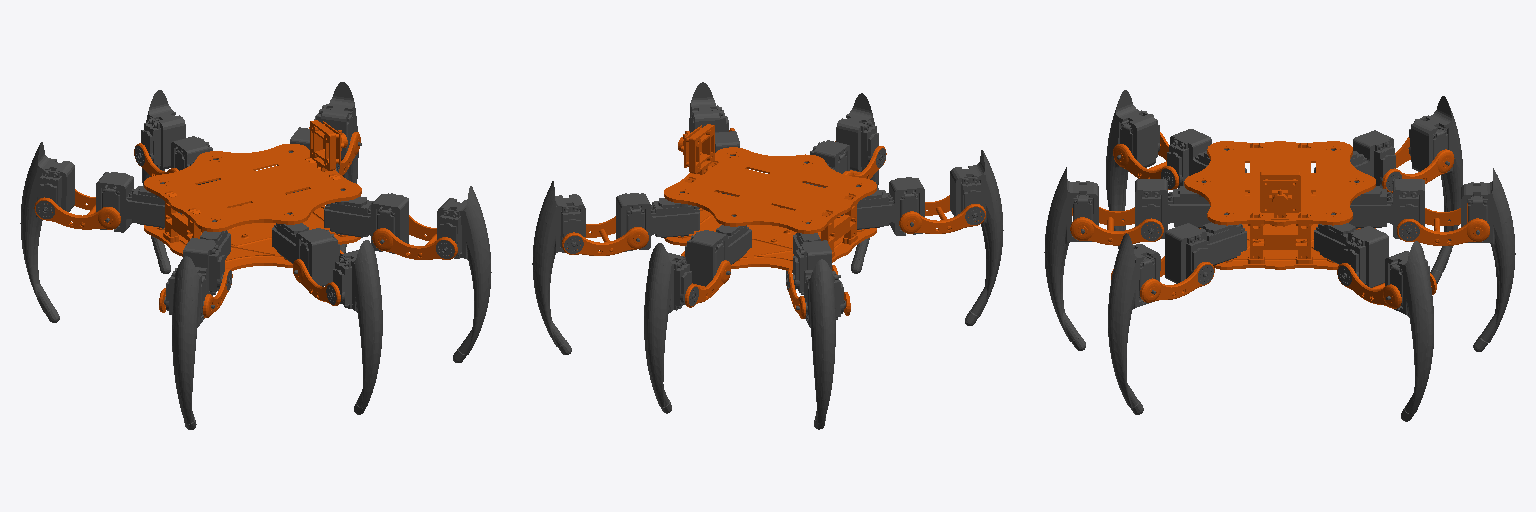
--- What the picture shows (computed from the rendered views, not written in the file) ---
The picture shows the robot from 3 angles, left to right: view 1: azimuth 30°, elevation 25°; view 2: azimuth 150°, elevation 25°; view 3: azimuth 270°, elevation 25°; orthographic projection.
Model hexapod with 32 links and 31 joints (18 revolute, 13 fixed), rooted at base_link, posed every joint at zero.
Visible links, largest first — view 1: thorax, tibia_r2, tibia_r1, tibia_l3, tibia_r3, coxa_r1, coxa_r2, tibia_l2, coxa_l3, coxa_r3, tibia_l1, femur_r1 (+4 smaller); view 2: thorax, tibia_l2, tibia_l1, tibia_r3, tibia_l3, coxa_l1, coxa_l2, tibia_r2, coxa_r3, femur_l1, femur_r3, coxa_l3 (+4 smaller); view 3: thorax, tibia_l1, tibia_r1, tibia_r2, tibia_l2, tibia_l3, coxa_r1, tibia_r3, coxa_l1, coxa_l2, coxa_r2, femur_l2 (+7 smaller).
Boxes of the visible links, x1,y1,x2,y2 form: thorax: (144,120,361,270); tibia_r2: (326,240,382,414); tibia_r1: (436,186,491,362); tibia_l3: (20,142,74,322); tibia_r3: (164,256,214,429); coxa_r1: (324,189,408,253); coxa_r2: (272,213,339,286); tibia_l2: (135,90,185,273); coxa_l3: (96,172,181,232); coxa_r3: (183,220,231,295); tibia_l1: (314,82,361,252); femur_r1: (372,215,457,259); thorax: (664,124,876,272); tibia_l2: (644,243,698,413); tibia_l1: (532,181,585,354); tibia_r3: (950,150,1003,325); tibia_l3: (796,259,845,429); coxa_l1: (616,192,699,251); coxa_l2: (685,215,751,286); tibia_r2: (836,93,885,273); coxa_r3: (841,177,924,235); femur_l1: (562,216,648,255); femur_r3: (899,195,985,233); coxa_l3: (786,222,840,294); thorax: (1184,141,1375,269); tibia_l1: (1385,241,1433,421); tibia_r1: (1108,233,1160,414); tibia_r2: (1044,167,1098,350); tibia_l2: (1461,168,1515,351); tibia_l3: (1408,96,1462,283); coxa_r1: (1165,213,1246,284); tibia_r3: (1106,90,1159,248); coxa_l1: (1314,213,1388,287); coxa_l2: (1349,179,1424,240); coxa_r2: (1135,179,1210,240); femur_l2: (1397,203,1489,245).
Size in the robot's own frame: 0.4002 by 0.4806 by 0.235 metres.
19 mesh visuals loaded from 7 distinct referenced files (7 binary STL).

URDF robot description (hexapod):
<?xml version="1.0" encoding="utf-8"?>
<!-- This URDF was automatically created by SolidWorks to URDF Exporter! Originally created by Stephen Brawner ([email redacted]) 
     Commit Version: 1.5.1-0-g916b5db  Build Version: 1.5.7152.31018
     For more information, please see http://wiki.ros.org/sw_urdf_exporter -->
<robot name="hexapod">
  <link name="base_link" />
  <link name="thorax">
    <inertial>
      <origin
        xyz="0.00706348303608598 6.20325486476734E-07 0.00603744130644426"
        rpy="0 0 0" />
      <mass
        value="0.186464930329123" />
      <inertia
        ixx="0.000348426912913734"
        ixy="4.75798074144715E-08"
        ixz="1.53362982798971E-07"
        iyy="0.00047563290900193"
        iyz="-7.10771446997733E-10"
        izz="0.000812087243482573" />
    </inertial>
    <visual>
      <origin
        xyz="0 0 0"
        rpy="0 0 0" />
      <geometry>
        <mesh
          filename="package://hexapod/meshes/thorax.STL" />
      </geometry>
      <material
        name="">
        <color
          rgba="0.843137255 0.37254902 0.062745098 1" />
      </material>
    </visual>
    <collision>
      <origin
        xyz="0 0 0"
        rpy="0 0 0" />
      <geometry>
        <mesh
          filename="package://hexapod/meshes/thorax.STL" />
      </geometry>
    </collision>
  </link>
  <joint
    name="base_joint"
    type="fixed">
    <origin
      xyz="0 0 0"
      rpy="0 0 0" />
    <parent
      link="base_link" />
    <child
      link="thorax" />
    <axis
      xyz="0 0 1" />
    <limit
      lower="-1.57"
      upper="1.57"
      effort="0"
      velocity="0" />
  </joint>
  <link name="leg_center_l1" />
  <joint
    name="leg_center_joint_l1"
    type="fixed">
    <origin
      xyz="0.077819 0.05449 -0.0017"
      rpy="0 0 0" />
    <parent
      link="thorax" />
    <child
      link="leg_center_l1" />
    <axis
      xyz="0 0 -1" />
    <limit
      lower="-1.57"
      upper="1.57"
      effort="0"
      velocity="0" />
  </joint>
  <link
    name="coxa_l1">
    <inertial>
      <origin
        xyz="0.034834 -0.0025292 -0.0010002"
        rpy="0 0 0" />
      <mass
        value="0.10336" />
      <inertia
        ixx="1.9105E-05"
        ixy="-5.2376E-13"
        ixz="-2.1505E-07"
        iyy="4.5061E-05"
        iyz="-4.146E-08"
        izz="3.529E-05" />
    </inertial>
    <visual>
      <origin
        xyz="0 0 0"
        rpy="0 0 0" />
      <geometry>
        <mesh
          filename="package://hexapod/meshes/coxa_l.STL" />
      </geometry>
      <material
        name="">
        <color
          rgba="0.352941176 0.352941176 0.352941176 1" />
      </material>
    </visual>
    <collision>
      <origin
        xyz="0 0 0"
        rpy="0 0 0" />
      <geometry>
        <mesh
          filename="package://hexapod/meshes/coxa_l.STL" />
      </geometry>
    </collision>
  </link>
  <joint
    name="coxa_joint_l1"
    type="revolute">
    <origin
      xyz="0 0 0"
      rpy="0 0 0.73013" />
    <parent
      link="leg_center_l1" />
    <child
      link="coxa_l1" />
    <axis
      xyz="0 0 -1" />
    <limit
      lower="-1.57"
      upper="1.57"
      effort="0"
      velocity="0" />
  </joint>
  <link
    name="femur_l1">
    <inertial>
      <origin
        xyz="-0.0043462 0.034442 -0.0058187"
        rpy="0 0 0" />
      <mass
        value="0.016654" />
      <inertia
        ixx="1.0989E-05"
        ixy="-2.5179E-10"
        ixz="2.3265E-12"
        iyy="1.0107E-06"
        iyz="9.216E-08"
        izz="1.1493E-05" />
    </inertial>
    <visual>
      <origin
        xyz="0 0 0"
        rpy="0 0 0" />
      <geometry>
        <mesh
          filename="package://hexapod/meshes/femur_l.STL" />
      </geometry>
      <material
        name="">
        <color
          rgba="0.843137255 0.37254902 0.062745098 1" />
      </material>
    </visual>
    <collision>
      <origin
        xyz="0 0 0"
        rpy="0 0 0" />
      <geometry>
        <mesh
          filename="package://hexapod/meshes/femur_l.STL" />
      </geometry>
    </collision>
  </link>
  <joint
    name="femur_joint_l1"
    type="revolute">
    <origin
      xyz="0.053487 -0.00025 -0.01255"
      rpy="-1.5708 -1.5708 0" />
    <parent
      link="coxa_l1" />
    <child
      link="femur_l1" />
    <axis
      xyz="0 0 1" />
    <limit
      lower="-1.57"
      upper="1.57"
      effort="0"
      velocity="0" />
  </joint>
  <link
    name="tibia_l1">
    <inertial>
      <origin
        xyz="0.010899 0.012132 0.0037413"
        rpy="0 0 0" />
      <mass
        value="0.12021" />
      <inertia
        ixx="2.2982E-05"
        ixy="-1.2411E-05"
        ixz="4.1572E-08"
        iyy="0.00017602"
        iyz="1.3806E-10"
        izz="0.00018979" />
    </inertial>
    <visual>
      <origin
        xyz="0 0 0"
        rpy="0 0 0" />
      <geometry>
        <mesh
          filename="package://hexapod/meshes/tibia_l.STL" />
      </geometry>
      <material
        name="">
        <color
          rgba="0.352941176 0.352941176 0.352941176 1" />
      </material>
    </visual>
    <collision>
      <origin
        xyz="0 0 0"
        rpy="0 0 0" />
      <geometry>
        <mesh
          filename="package://hexapod/meshes/tibia_l.STL" />
      </geometry>
    </collision>
  </link>
  <joint
    name="tibia_joint_l1"
    type="revolute">
    <origin
      xyz="0 0.07 -0.0059687"
      rpy="3.1416 0 3.132" />
    <parent
      link="femur_l1" />
    <child
      link="tibia_l1" />
    <axis
      xyz="0 0 1" />
    <limit
      lower="-1.57"
      upper="1.57"
      effort="0"
      velocity="0" />
  </joint>
  <link name="tibia_foot_l1" />
  <joint
    name="tibia_foot_joint_l1"
    type="fixed">
    <origin
      xyz="0.1444 -0.0031016 0.0058"
      rpy="0 0 3.1416" />
    <parent
      link="tibia_l1" />
    <child
      link="tibia_foot_l1" />
    <axis
      xyz="0.99995 -0.0095683 0" />
  </joint>

  <link name="leg_center_l2" />
  <joint
    name="leg_center_joint_l2"
    type="fixed">
    <origin
      xyz="0 0.078 -0.0017"
      rpy="0 0 0" />
    <parent
      link="thorax" />
    <child
      link="leg_center_l2" />
    <axis
      xyz="0 0 -1" />
    <limit
      lower="-1.57"
      upper="1.57"
      effort="0"
      velocity="0" />
  </joint>
  <link
    name="coxa_l2">
    <inertial>
      <origin
        xyz="0.0348344911381483 -0.00252923783776128 -0.00100016547523733"
        rpy="0 0 0" />
      <mass
        value="0.103363776893952" />
      <inertia
        ixx="1.91048783285097E-05"
        ixy="-5.55687162751777E-13"
        ixz="-2.15046985299267E-07"
        iyy="4.50607444130239E-05"
        iyz="-4.14596116123115E-08"
        izz="3.52896644398831E-05" />
    </inertial>
    <visual>
      <origin
        xyz="0 0 0"
        rpy="0 0 0" />
      <geometry>
        <mesh
          filename="package://hexapod/meshes/coxa_l.STL" />
      </geometry>
      <material
        name="">
        <color
          rgba="0.352941176 0.352941176 0.352941176 1" />
      </material>
    </visual>
    <collision>
      <origin
        xyz="0 0 0"
        rpy="0 0 0" />
      <geometry>
        <mesh
          filename="package://hexapod/meshes/coxa_l.STL" />
      </geometry>
    </collision>
  </link>
  <joint
    name="coxa_joint_l2"
    type="revolute">
    <origin
      xyz="0 0 0"
      rpy="0 0 1.5766" />
    <parent
      link="leg_center_l2" />
    <child
      link="coxa_l2" />
    <axis
      xyz="0 0 -1" />
    <limit
      lower="-1.57"
      upper="1.57"
      effort="0"
      velocity="0" />
  </joint>
  <link
    name="femur_l2">
    <inertial>
      <origin
        xyz="-0.0043461847377985 0.0344416311101856 -0.00581874998882807"
        rpy="0 0 0" />
      <mass
        value="0.0166543169132961" />
      <inertia
        ixx="1.09887876437987E-05"
        ixy="-2.51790271651963E-10"
        ixz="2.32651955705625E-12"
        iyy="1.01070134376918E-06"
        iyz="9.21601717207136E-08"
        izz="1.14929296906149E-05" />
    </inertial>
    <visual>
      <origin
        xyz="0 0 0"
        rpy="0 0 0" />
      <geometry>
        <mesh
          filename="package://hexapod/meshes/femur_l.STL" />
      </geometry>
      <material
        name="">
        <color
          rgba="0.843137255 0.37254902 0.062745098 1" />
      </material>
    </visual>
    <collision>
      <origin
        xyz="0 0 0"
        rpy="0 0 0" />
      <geometry>
        <mesh
          filename="package://hexapod/meshes/femur_l.STL" />
      </geometry>
    </collision>
  </link>
  <joint
    name="femur_joint_l2"
    type="revolute">
    <origin
      xyz="0.053487 -0.00025 -0.01255"
      rpy="-1.5708 -1.5708 0" />
    <parent
      link="coxa_l2" />
    <child
      link="femur_l2" />
    <axis
      xyz="0 0 1" />
    <limit
      lower="-1.57"
      upper="1.57"
      effort="0"
      velocity="0" />
  </joint>
  <link
    name="tibia_l2">
    <inertial>
      <origin
        xyz="0.0108992142359855 0.012131645184249 0.00374137321632532"
        rpy="0 0 0" />
      <mass
        value="0.12021416807033" />
      <inertia
        ixx="2.29812069729442E-05"
        ixy="-1.24106060337982E-05"
        ixz="4.15464620797401E-08"
        iyy="0.00017602202790064"
        iyz="2.18365087267805E-10"
        izz="0.000189786291606238" />
    </inertial>
    <visual>
      <origin
        xyz="0 0 0"
        rpy="0 0 0" />
      <geometry>
        <mesh
          filename="package://hexapod/meshes/tibia_l.STL" />
      </geometry>
      <material
        name="">
        <color
          rgba="0.352941176 0.352941176 0.352941176 1" />
      </material>
    </visual>
    <collision>
      <origin
        xyz="0 0 0"
        rpy="0 0 0" />
      <geometry>
        <mesh
          filename="package://hexapod/meshes/tibia_l.STL" />
      </geometry>
    </collision>
  </link>
  <joint
    name="tibia_joint_l2"
    type="revolute">
    <origin
      xyz="0 0.07 -0.0059687"
      rpy="3.1416 0 3.132" />
    <parent
      link="femur_l2" />
    <child
      link="tibia_l2" />
    <axis
      xyz="0 0 1" />
    <limit
      lower="-1.57"
      upper="1.57"
      effort="0"
      velocity="0" />
  </joint>
  
  <link name="tibia_foot_l2" />
  <joint
    name="tibia_foot_joint_l2"
    type="fixed">
    <origin
      xyz="0.1444 -0.0031016 0.0058"
      rpy="0 0 -3.1416" />
    <parent
      link="tibia_l2" />
    <child
      link="tibia_foot_l2" />
    <axis
      xyz="0.99995 -0.0095683 0" />
  </joint>
  
  <link name="leg_center_l3" />
  <joint
    name="leg_center_joint_l3"
    type="fixed">
    <origin
      xyz="-0.077819 0.05449 -0.0017"
      rpy="0 0 0" />
    <parent
      link="thorax" />
    <child
      link="leg_center_l3" />
    <axis
      xyz="0 0 -1" />
    <limit
      lower="-1.57"
      upper="1.57"
      effort="0"
      velocity="0" />
  </joint>
  <link
    name="coxa_l3">
    <inertial>
      <origin
        xyz="0.0348344911373695 -0.00252923874254912 -0.00100016534520471"
        rpy="0 0 0" />
      <mass
        value="0.103363766488573" />
      <inertia
        ixx="1.91048770090535E-05"
        ixy="-6.25550734094643E-13"
        ixz="-2.15046976421127E-07"
        iyy="4.50607393758289E-05"
        iyz="-4.14597029674846E-08"
        izz="3.52896594422946E-05" />
    </inertial>
    <visual>
      <origin
        xyz="0 0 0"
        rpy="0 0 0" />
      <geometry>
        <mesh
          filename="package://hexapod/meshes/coxa_l.STL" />
      </geometry>
      <material
        name="">
        <color
          rgba="0.352941176 0.352941176 0.352941176 1" />
      </material>
    </visual>
    <collision>
      <origin
        xyz="0 0 0"
        rpy="0 0 0" />
      <geometry>
        <mesh
          filename="package://hexapod/meshes/coxa_l.STL" />
      </geometry>
    </collision>
  </link>
  <joint
    name="coxa_joint_l3"
    type="revolute">
    <origin
      xyz="0 0 0"
      rpy="0 0 2.288" />
    <parent
      link="leg_center_l3" />
    <child
      link="coxa_l3" />
    <axis
      xyz="0 0 -1" />
    <limit
      lower="-1.57"
      upper="1.57"
      effort="0"
      velocity="0" />
  </joint>
  <link
    name="femur_l3">
    <inertial>
      <origin
        xyz="-0.0043461850507205 0.0344416273048208 -0.00581874872468231"
        rpy="0 0 0" />
      <mass
        value="0.0166543143060304" />
      <inertia
        ixx="1.09887835413518E-05"
        ixy="-2.51700314249262E-10"
        ixz="2.30180367469778E-12"
        iyy="1.0107001676025E-06"
        iyz="9.21597603799202E-08"
        izz="1.14929241444439E-05" />
    </inertial>
    <visual>
      <origin
        xyz="0 0 0"
        rpy="0 0 0" />
      <geometry>
        <mesh
          filename="package://hexapod/meshes/femur_l.STL" />
      </geometry>
      <material
        name="">
        <color
          rgba="0.843137255 0.37254902 0.062745098 1" />
      </material>
    </visual>
    <collision>
      <origin
        xyz="0 0 0"
        rpy="0 0 0" />
      <geometry>
        <mesh
          filename="package://hexapod/meshes/femur_l.STL" />
      </geometry>
    </collision>
  </link>
  <joint
    name="femur_joint_l3"
    type="revolute">
    <origin
      xyz="0.053487 -0.00025 -0.01255"
      rpy="-1.5708 -1.5708 0" />
    <parent
      link="coxa_l3" />
    <child
      link="femur_l3" />
    <axis
      xyz="0 0 1" />
    <limit
      lower="-1.57"
      upper="1.57"
      effort="0"
      velocity="0" />
  </joint>
  <link
    name="tibia_l3">
    <inertial>
      <origin
        xyz="0.0108992410697003 0.0121320882126049 0.00374133116233456"
        rpy="0 0 0" />
      <mass
        value="0.120214011881358" />
      <inertia
        ixx="2.29816761087102E-05"
        ixy="-1.24111837736268E-05"
        ixz="4.15681097308728E-08"
        iyy="0.000176023115978277"
        iyz="1.37085554409446E-10"
        izz="0.000189787821616293" />
    </inertial>
    <visual>
      <origin
        xyz="0 0 0"
        rpy="0 0 0" />
      <geometry>
        <mesh
          filename="package://hexapod/meshes/tibia_l.STL" />
      </geometry>
      <material
        name="">
        <color
          rgba="0.352941176 0.352941176 0.352941176 1" />
      </material>
    </visual>
    <collision>
      <origin
        xyz="0 0 0"
        rpy="0 0 0" />
      <geometry>
        <mesh
          filename="package://hexapod/meshes/tibia_l.STL" />
      </geometry>
    </collision>
  </link>
  <joint
    name="tibia_joint_l3"
    type="revolute">
    <origin
      xyz="0 0.07 -0.0059688"
      rpy="3.1416 0 3.132" />
    <parent
      link="femur_l3" />
    <child
      link="tibia_l3" />
    <axis
      xyz="0 0 1" />
    <limit
      lower="-1.57"
      upper="1.57"
      effort="0"
      velocity="0" />
  </joint>
  
  <link name="tibia_foot_l3" />
  <joint
    name="tibia_foot_joint_l3"
    type="fixed">
    <origin
      xyz="0.144395915274677 -0.00310162843896286 0.00580000000000006"
      rpy="0 0 3.14159265358979" />
    <parent
      link="tibia_l3" />
    <child
      link="tibia_foot_l3" />
    <axis
      xyz="0.999954222827223 -0.00956829399654586 0" />
  </joint>
  
  <link name="leg_center_r1" />
  <joint
    name="leg_center_joint_r1"
    type="fixed">
    <origin
      xyz="0.077819 -0.05449 -0.0017"
      rpy="0 0 0" />
    <parent
      link="thorax" />
    <child
      link="leg_center_r1" />
    <axis
      xyz="0 0 -1" />
    <limit
      lower="-1.57"
      upper="1.57"
      effort="0"
      velocity="0" />
  </joint>
  <link
    name="coxa_r1">
    <inertial>
      <origin
        xyz="0.0348344909739739 0.00217853268244035 -0.00100016535985496"
        rpy="0 0 0" />
      <mass
        value="0.103363766514852" />
      <inertia
        ixx="1.91048769186334E-05"
        ixy="-4.48253924396951E-13"
        ixz="-2.15046742290026E-07"
        iyy="4.5060739382653E-05"
        iyz="4.14608046103754E-08"
        izz="3.52896595571694E-05" />
    </inertial>
    <visual>
      <origin
        xyz="0 0 0"
        rpy="0 0 0" />
      <geometry>
        <mesh
          filename="package://hexapod/meshes/coxa_r.STL" />
      </geometry>
      <material
        name="">
        <color
          rgba="0.352941176 0.352941176 0.352941176 1" />
      </material>
    </visual>
    <collision>
      <origin
        xyz="0 0 0"
        rpy="0 0 0" />
      <geometry>
        <mesh
          filename="package://hexapod/meshes/coxa_r.STL" />
      </geometry>
    </collision>
  </link>
  <joint
    name="coxa_joint_r1"
    type="revolute">
    <origin
      xyz="0 0 0"
      rpy="0 0 -0.89286" />
    <parent
      link="leg_center_r1" />
    <child
      link="coxa_r1" />
    <axis
      xyz="0 0 -1" />
    <limit
      lower="-1.57"
      upper="1.57"
      effort="0"
      velocity="0" />
  </joint>
  <link
    name="femur_r1">
    <inertial>
      <origin
        xyz="-0.00362186654971272 0.0356362982329174 0.00581875542791389"
        rpy="0 0 0" />
      <mass
        value="0.0167057128879861" />
      <inertia
        ixx="1.10325216372562E-05"
        ixy="-2.00367430072518E-07"
        ixz="-1.93334135332625E-09"
        iyy="1.01761005526357E-06"
        iyz="-9.66778963830072E-08"
        izz="1.15426655477571E-05" />
    </inertial>
    <visual>
      <origin
        xyz="0 0 0"
        rpy="0 0 0" />
      <geometry>
        <mesh
          filename="package://hexapod/meshes/femur_r.STL" />
      </geometry>
      <material
        name="">
        <color
          rgba="0.843137255 0.37254902 0.062745098 1" />
      </material>
    </visual>
    <collision>
      <origin
        xyz="0 0 0"
        rpy="0 0 0" />
      <geometry>
        <mesh
          filename="package://hexapod/meshes/femur_r.STL" />
      </geometry>
    </collision>
  </link>
  <joint
    name="femur_joint_r1"
    type="revolute">
    <origin
      xyz="0.053487 -0.00025 -0.01255"
      rpy="-1.5708 -1.5708 0" />
    <parent
      link="coxa_r1" />
    <child
      link="femur_r1" />
    <axis
      xyz="0 0 -1" />
    <limit
      lower="-1.57"
      upper="1.57"
      effort="0"
      velocity="0" />
  </joint>
  <link
    name="tibia_r1">
    <inertial>
      <origin
        xyz="0.0108992485821746 0.0125037219591843 -0.00374166830282576"
        rpy="0 0 0" />
      <mass
        value="0.120214017887961" />
      <inertia
        ixx="2.29816742236997E-05"
        ixy="-1.24111932632468E-05"
        ixz="-4.13635941016623E-08"
        iyy="0.000176023190447477"
        iyz="1.33753642844033E-10"
        izz="0.000189787887885197" />
    </inertial>
    <visual>
      <origin
        xyz="0 0 0"
        rpy="0 0 0" />
      <geometry>
        <mesh
          filename="package://hexapod/meshes/tibia_r.STL" />
      </geometry>
      <material
        name="">
        <color
          rgba="0.352941176 0.352941176 0.352941176 1" />
      </material>
    </visual>
    <collision>
      <origin
        xyz="0 0 0"
        rpy="0 0 0" />
      <geometry>
        <mesh
          filename="package://hexapod/meshes/tibia_r.STL" />
      </geometry>
    </collision>
  </link>
  <joint
    name="tibia_joint_r1"
    type="revolute">
    <origin
      xyz="0.0013997 0.069986 0.0059687"
      rpy="3.1416 0 3.1297" />
    <parent
      link="femur_r1" />
    <child
      link="tibia_r1" />
    <axis
      xyz="0 0 -1" />
    <limit
      lower="-1.57"
      upper="1.57"
      effort="0"
      velocity="0" />
  </joint>
  
  <link name="tibia_foot_r1" />
  <joint
    name="tibia_foot_joint_r1"
    type="fixed">
    <origin
      xyz="0.144395915274678 -0.00260162843895737 -0.00580000000000004"
      rpy="0 0 -3.14159265358979" />
    <parent
      link="tibia_r1" />
    <child
      link="tibia_foot_r1" />
    <axis
      xyz="0.999929737401117 -0.0118541242162215 0" />
  </joint>
  
  <link name="leg_center_r2" />
  <joint
    name="leg_center_joint_r2"
    type="fixed">
    <origin
      xyz="0 -0.078 -0.0017"
      rpy="0 0 0" />
    <parent
      link="thorax" />
    <child
      link="leg_center_r2" />
    <axis
      xyz="0 0 -1" />
    <limit
      lower="-1.57"
      upper="1.57"
      effort="0"
      velocity="0" />
  </joint>
  <link
    name="coxa_r2">
    <inertial>
      <origin
        xyz="0.0348344911173376 0.00217853192417436 -0.00100016537397829"
        rpy="0 0 0" />
      <mass
        value="0.103363778053454" />
      <inertia
        ixx="1.91048786955346E-05"
        ixy="-4.73582125705158E-13"
        ixz="-2.1504686687467E-07"
        iyy="4.50607448453734E-05"
        iyz="4.14607240908262E-08"
        izz="3.52896647303261E-05" />
    </inertial>
    <visual>
      <origin
        xyz="0 0 0"
        rpy="0 0 0" />
      <geometry>
        <mesh
          filename="package://hexapod/meshes/coxa_r.STL" />
      </geometry>
      <material
        name="">
        <color
          rgba="0.352941176 0.352941176 0.352941176 1" />
      </material>
    </visual>
    <collision>
      <origin
        xyz="0 0 0"
        rpy="0 0 0" />
      <geometry>
        <mesh
          filename="package://hexapod/meshes/coxa_r.STL" />
      </geometry>
    </collision>
  </link>
  <joint
    name="coxa_joint_r2"
    type="revolute">
    <origin
      xyz="0 0 0"
      rpy="0 0 -1.5708" />
    <parent
      link="leg_center_r2" />
    <child
      link="coxa_r2" />
    <axis
      xyz="0 0 -1" />
    <limit
      lower="-1.57"
      upper="1.57"
      effort="0"
      velocity="0" />
  </joint>
  <link
    name="femur_r2">
    <inertial>
      <origin
        xyz="-0.00362186426289651 0.0356362963042353 0.00581874969222816"
        rpy="0 0 0" />
      <mass
        value="0.0167057274084573" />
      <inertia
        ixx="1.10325316501959E-05"
        ixy="-2.0036820117646E-07"
        ixz="-1.93340134884321E-09"
        iyy="1.01761454004157E-06"
        iyz="-9.66784667800849E-08"
        izz="1.15426806155419E-05" />
    </inertial>
    <visual>
      <origin
        xyz="0 0 0"
        rpy="0 0 0" />
      <geometry>
        <mesh
          filename="package://hexapod/meshes/femur_r.STL" />
      </geometry>
      <material
        name="">
        <color
          rgba="0.843137255 0.37254902 0.062745098 1" />
      </material>
    </visual>
    <collision>
      <origin
        xyz="0 0 0"
        rpy="0 0 0" />
      <geometry>
        <mesh
          filename="package://hexapod/meshes/femur_r.STL" />
      </geometry>
    </collision>
  </link>
  <joint
    name="femur_joint_r2"
    type="revolute">
    <origin
      xyz="0.053487 -0.00025 -0.01255"
      rpy="-1.5708 -1.5708 0" />
    <parent
      link="coxa_r2" />
    <child
      link="femur_r2" />
    <axis
      xyz="0 0 -1" />
    <limit
      lower="-1.57"
      upper="1.57"
      effort="0"
      velocity="0" />
  </joint>
  <link
    name="tibia_r2">
    <inertial>
      <origin
        xyz="0.0108992206549124 0.0125032775464929 -0.00374163760383288"
        rpy="0 0 0" />
      <mass
        value="0.120214224900765" />
      <inertia
        ixx="2.29812081418684E-05"
        ixy="-1.24105923741768E-05"
        ixz="-4.1365031385574E-08"
        iyy="0.000176022002118481"
        iyz="2.21039713672257E-10"
        izz="0.000189786271631109" />
    </inertial>
    <visual>
      <origin
        xyz="0 0 0"
        rpy="0 0 0" />
      <geometry>
        <mesh
          filename="package://hexapod/meshes/tibia_r.STL" />
      </geometry>
      <material
        name="">
        <color
          rgba="0.352941176 0.352941176 0.352941176 1" />
      </material>
    </visual>
    <collision>
      <origin
        xyz="0 0 0"
        rpy="0 0 0" />
      <geometry>
        <mesh
          filename="package://hexapod/meshes/tibia_r.STL" />
      </geometry>
    </collision>
  </link>
  <joint
    name="tibia_joint_r2"
    type="revolute">
    <origin
      xyz="0.0013997 0.069986 0.0059687"
      rpy="3.1416 0 3.1297" />
    <parent
      link="femur_r2" />
    <child
      link="tibia_r2" />
    <axis
      xyz="0 0 -1" />
    <limit
      lower="-1.57"
      upper="1.57"
      effort="0"
      velocity="0" />
  </joint>
  
  <link name="tibia_foot_r2" />
  <joint
    name="tibia_foot_joint_r2"
    type="fixed">
    <origin
      xyz="0.1444 -0.0026016 -0.0058"
      rpy="0 0 -3.1416" />
    <parent
      link="tibia_r2" />
    <child
      link="tibia_foot_r2" />
    <axis
      xyz="0.99993 -0.011854 0" />
  </joint>
  
  <link name="leg_center_r3" />
  <joint
    name="leg_center_joint_r3"
    type="fixed">
    <origin
      xyz="-0.077819 -0.05449 -0.0017"
      rpy="0 0 0" />
    <parent
      link="thorax" />
    <child
      link="leg_center_r3" />
    <axis
      xyz="0 0 -1" />
    <limit
      lower="-1.57"
      upper="1.57"
      effort="0"
      velocity="0" />
  </joint>
  <link
    name="coxa_r3">
    <inertial>
      <origin
        xyz="0.034834490871516 0.00217853284822213 -0.00100016520790498"
        rpy="0 0 0" />
      <mass
        value="0.103363765454807" />
      <inertia
        ixx="1.91048766321999E-05"
        ixy="-5.32153376308812E-13"
        ixz="-2.15046886402031E-07"
        iyy="4.50607389716587E-05"
        iyz="4.14608852314397E-08"
        izz="3.52896593628051E-05" />
    </inertial>
    <visual>
      <origin
        xyz="0 0 0"
        rpy="0 0 0" />
      <geometry>
        <mesh
          filename="package://hexapod/meshes/coxa_r.STL" />
      </geometry>
      <material
        name="">
        <color
          rgba="0.352941176 0.352941176 0.352941176 1" />
      </material>
    </visual>
    <collision>
      <origin
        xyz="0 0 0"
        rpy="0 0 0" />
      <geometry>
        <mesh
          filename="package://hexapod/meshes/coxa_r.STL" />
      </geometry>
    </collision>
  </link>
  <joint
    name="coxa_joint_r3"
    type="revolute">
    <origin
      xyz="0 0 0"
      rpy="0 0 -2.3851" />
    <parent
      link="leg_center_r3" />
    <child
      link="coxa_r3" />
    <axis
      xyz="0 0 -1" />
    <limit
      lower="-1.57"
      upper="1.57"
      effort="0"
      velocity="0" />
  </joint>
  <link
    name="femur_r3">
    <inertial>
      <origin
        xyz="-0.00362186679641074 0.0356362982569797 0.00581875544117352"
        rpy="0 0 0" />
      <mass
        value="0.0167057123479051" />
      <inertia
        ixx="1.103252111879E-05"
        ixy="-2.00367418643181E-07"
        ixz="-1.93334161626663E-09"
        iyy="1.0176099977436E-06"
        iyz="-9.6677863928821E-08"
        izz="1.15426649553057E-05" />
    </inertial>
    <visual>
      <origin
        xyz="0 0 0"
        rpy="0 0 0" />
      <geometry>
        <mesh
          filename="package://hexapod/meshes/femur_r.STL" />
      </geometry>
      <material
        name="">
        <color
          rgba="0.843137255 0.37254902 0.062745098 1" />
      </material>
    </visual>
    <collision>
      <origin
        xyz="0 0 0"
        rpy="0 0 0" />
      <geometry>
        <mesh
          filename="package://hexapod/meshes/femur_r.STL" />
      </geometry>
    </collision>
  </link>
  <joint
    name="femur_joint_r3"
    type="revolute">
    <origin
      xyz="0.053487 -0.00025 -0.01255"
      rpy="-1.5708 -1.5708 0" />
    <parent
      link="coxa_r3" />
    <child
      link="femur_r3" />
    <axis
      xyz="0 0 -1" />
    <limit
      lower="-1.57"
      upper="1.57"
      effort="0"
      velocity="0" />
  </joint>
  <link
    name="tibia_r3">
    <inertial>
      <origin
        xyz="0.0108992314689519 0.0125037178758301 -0.0037416710419222"
        rpy="0 0 0" />
      <mass
        value="0.120213976335486" />
      <inertia
        ixx="2.29816787162442E-05"
        ixy="-1.24111671758207E-05"
        ixz="-4.13419272250509E-08"
        iyy="0.000176023084082611"
        iyz="1.39305456137173E-10"
        izz="0.000189787796737244" />
    </inertial>
    <visual>
      <origin
        xyz="0 0 0"
        rpy="0 0 0" />
      <geometry>
        <mesh
          filename="package://hexapod/meshes/tibia_r.STL" />
      </geometry>
      <material
        name="">
        <color
          rgba="0.352941176 0.352941176 0.352941176 1" />
      </material>
    </visual>
    <collision>
      <origin
        xyz="0 0 0"
        rpy="0 0 0" />
      <geometry>
        <mesh
          filename="package://hexapod/meshes/tibia_r.STL" />
      </geometry>
    </collision>
  </link>
  <joint
    name="tibia_joint_r3"
    type="revolute">
    <origin
      xyz="0.0013997 0.069986 0.0059687"
      rpy="3.1416 0 3.1297" />
    <parent
      link="femur_r3" />
    <child
      link="tibia_r3" />
    <axis
      xyz="0 0 -1" />
    <limit
      lower="-1.57"
      upper="1.57"
      effort="0"
      velocity="0" />
  </joint>
  
  <link name="tibia_foot_r3" />
  <joint
    name="tibia_foot_joint_r3"
    type="fixed">
    <origin
      xyz="0.1444 -0.0026016 -0.0058"
      rpy="0 0 3.1416" />
    <parent
      link="tibia_r3" />
    <child
      link="tibia_foot_r3" />
    <axis
      xyz="0.99993 -0.011854 0" />
  </joint>
</robot>
